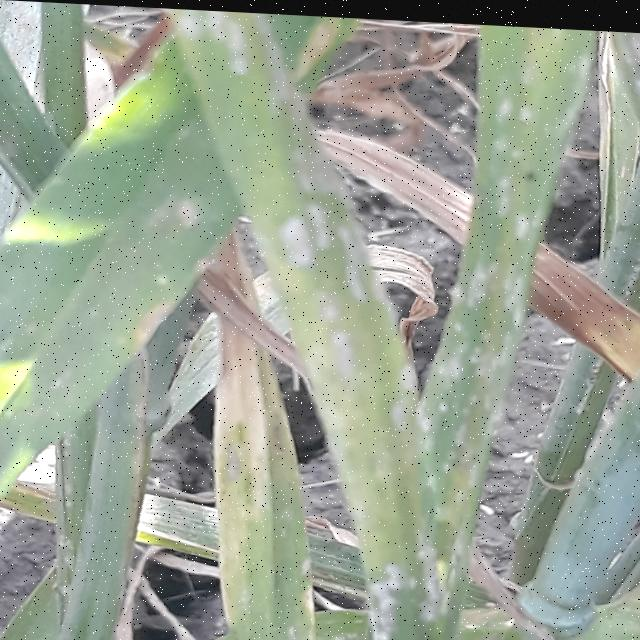powder_mildew: (167, 7, 459, 640), (0, 69, 248, 531), (393, 16, 608, 532), (582, 24, 640, 359), (529, 560, 640, 640)
